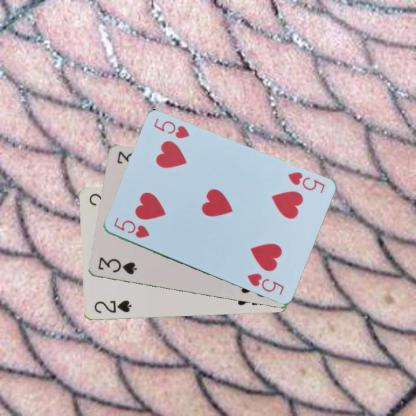2s: (91, 297, 133, 315)
3s: (95, 254, 138, 276)
5h: (285, 169, 326, 195), (110, 215, 150, 240)
